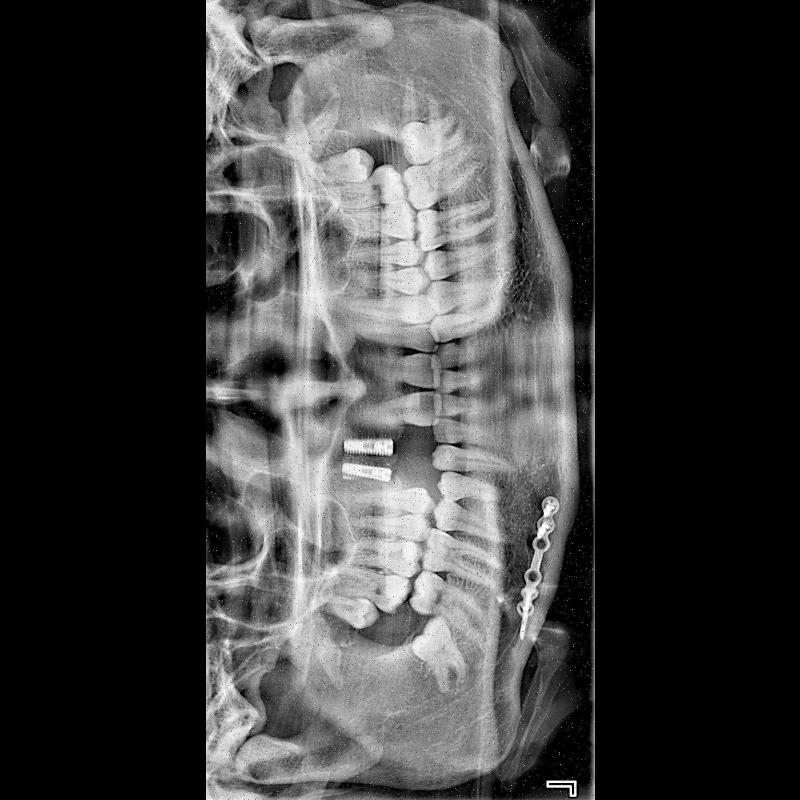osstem: (340, 457, 397, 485), (342, 435, 396, 461)
